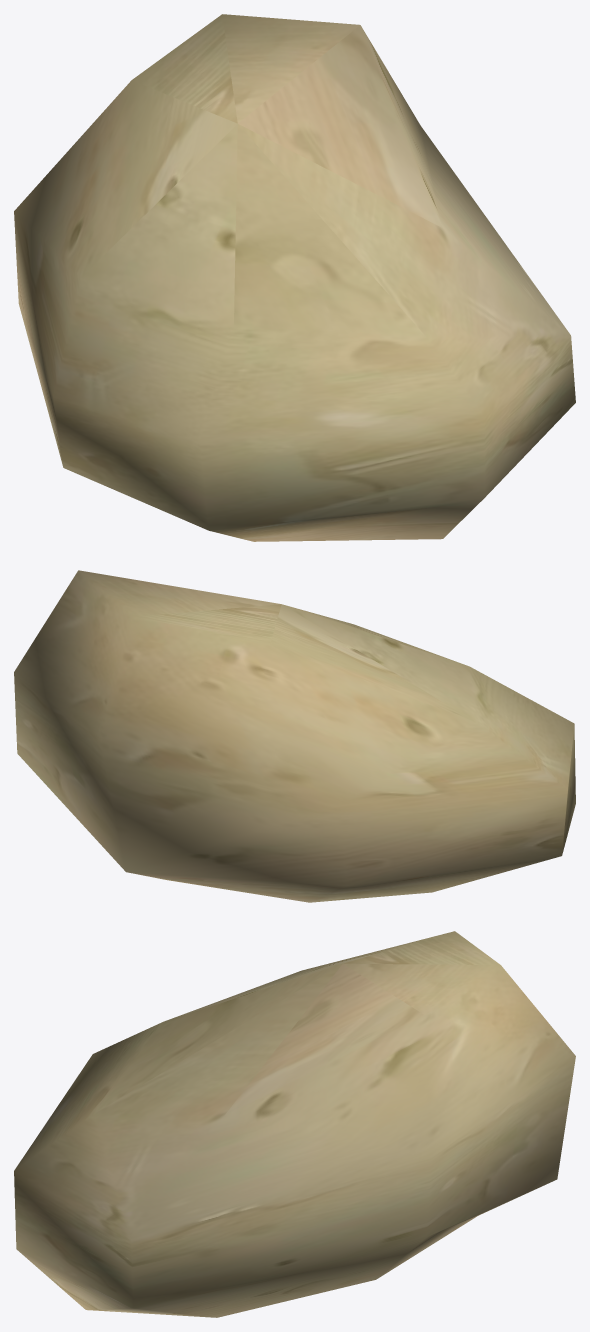
The model's file is oi_rockSmall_01.fbx.
The picture shows the model from 3 angles, top to bottom: view 1: azimuth 30°, elevation 25°; view 2: azimuth 150°, elevation 25°; view 3: azimuth 270°, elevation 25°; orthographic projection. The views are drawn at different scales.
Parts seen in each view (by area): view 1: rockSmall_01; view 2: rockSmall_01; view 3: rockSmall_01.
Part boxes in pixels (x1,y1,x2,y2): rockSmall_01: (14,14,575,541); rockSmall_01: (14,570,575,902); rockSmall_01: (14,931,575,1317).
Size of the model in its own units: 76.77 by 56.96 by 84.22.
1 material, 1 textured.
